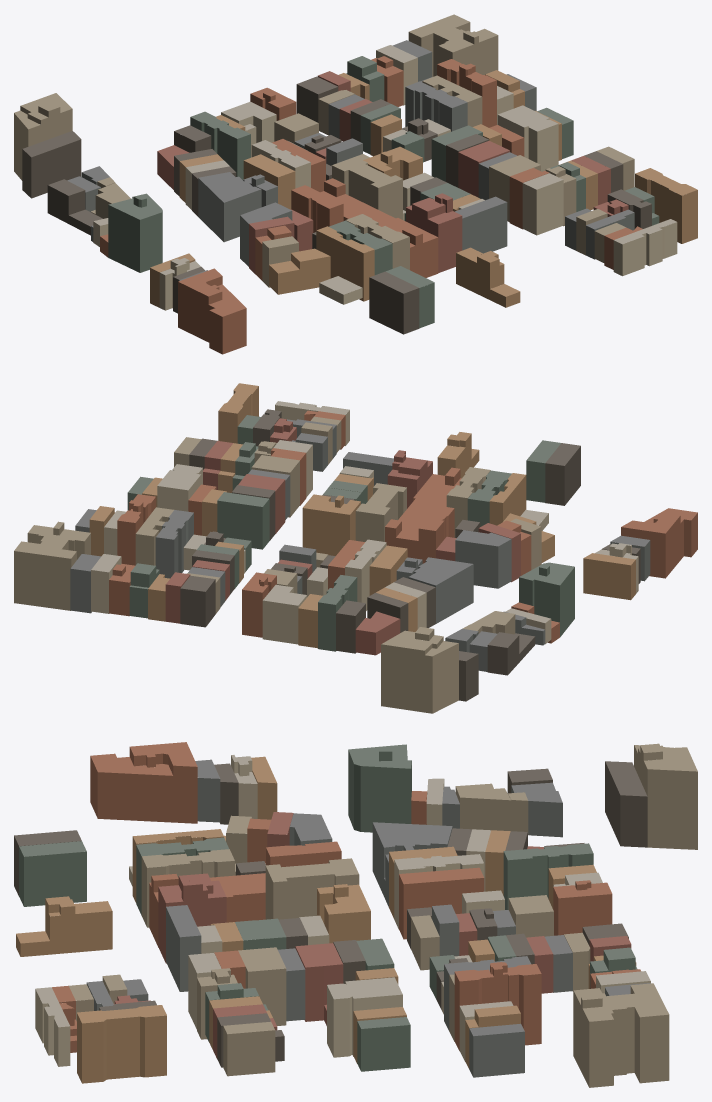
The model's file is tile--4_-3.glb.
3 views of the same model, one above another, from view 1: azimuth 30°, elevation 25°; view 2: azimuth 150°, elevation 25°; view 3: azimuth 270°, elevation 25° (orthographic). The views are drawn at different scales.
Visible parts, largest first — view 1: wall, roof; view 2: wall, roof; view 3: wall, roof.
Part boxes in pixels (box(x1,y1,x2,y2)): wall: box(14, 22, 697, 354); roof: box(14, 14, 697, 316); wall: box(14, 386, 697, 713); roof: box(14, 383, 697, 661); wall: box(14, 745, 697, 1087); roof: box(14, 742, 697, 1041).
Bounding box in the file's own units: 206 × 28.38 × 204.
